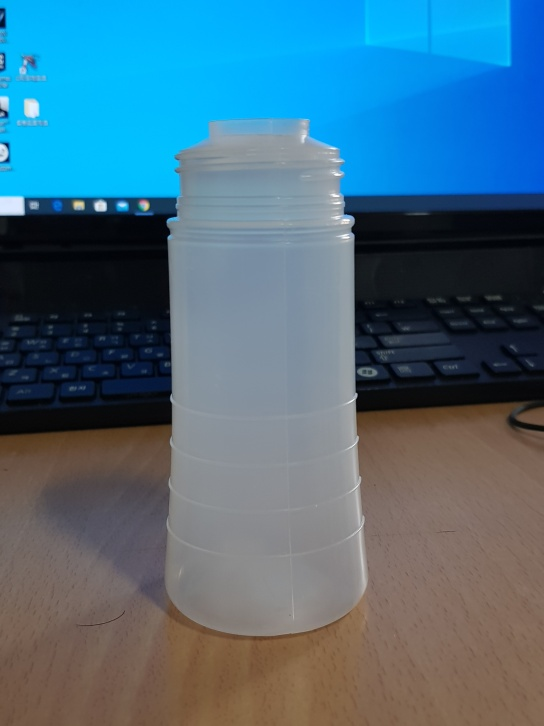Plastic: (163, 118, 369, 640)
